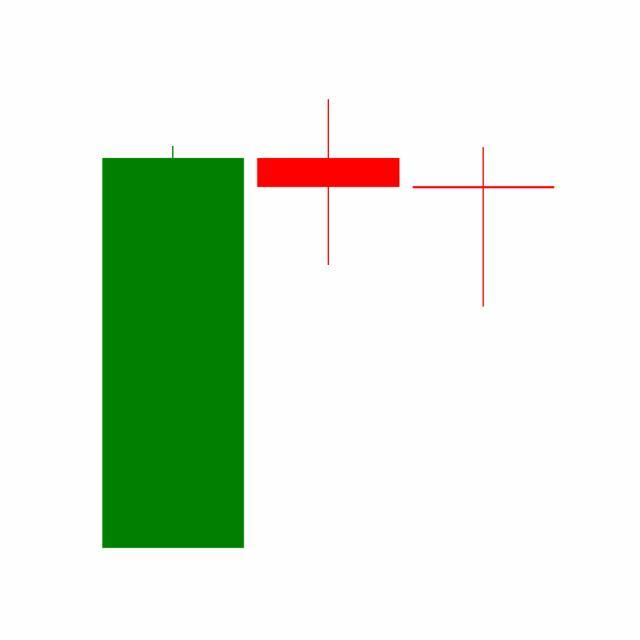Dragonfly Doji: (406, 146, 562, 310)
